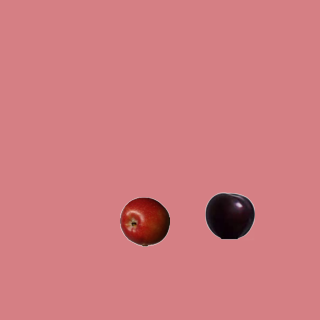Apple Braeburn: (119, 196, 169, 246)
Cherry Wax Black: (204, 190, 254, 240)
